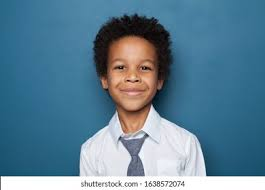person: (94, 13, 172, 113)
